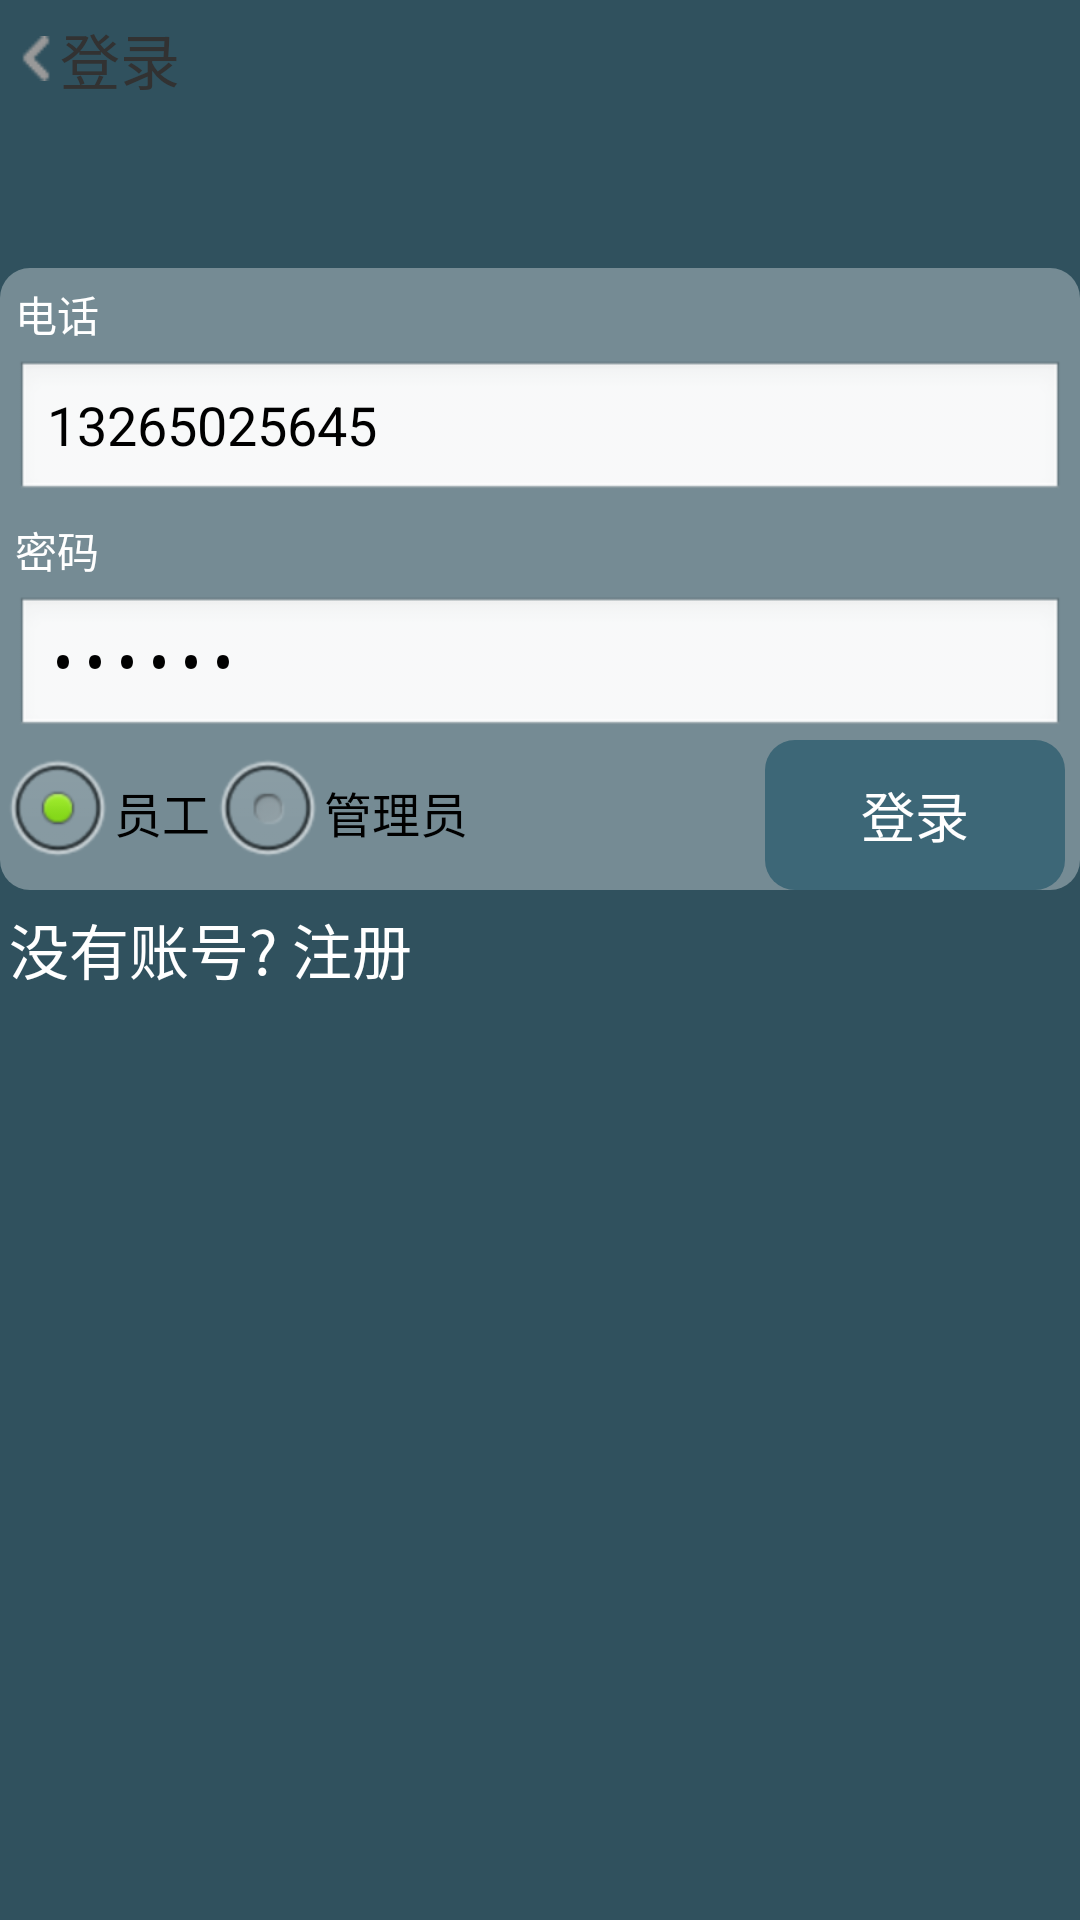

Point at icon controls on the screen. Image size 1080*1920, points as (x,y).
left: (36,58)
